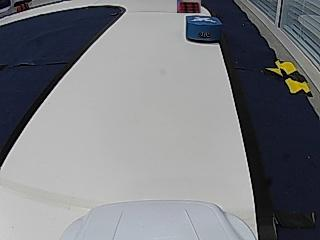prop: (186, 15, 223, 44)
